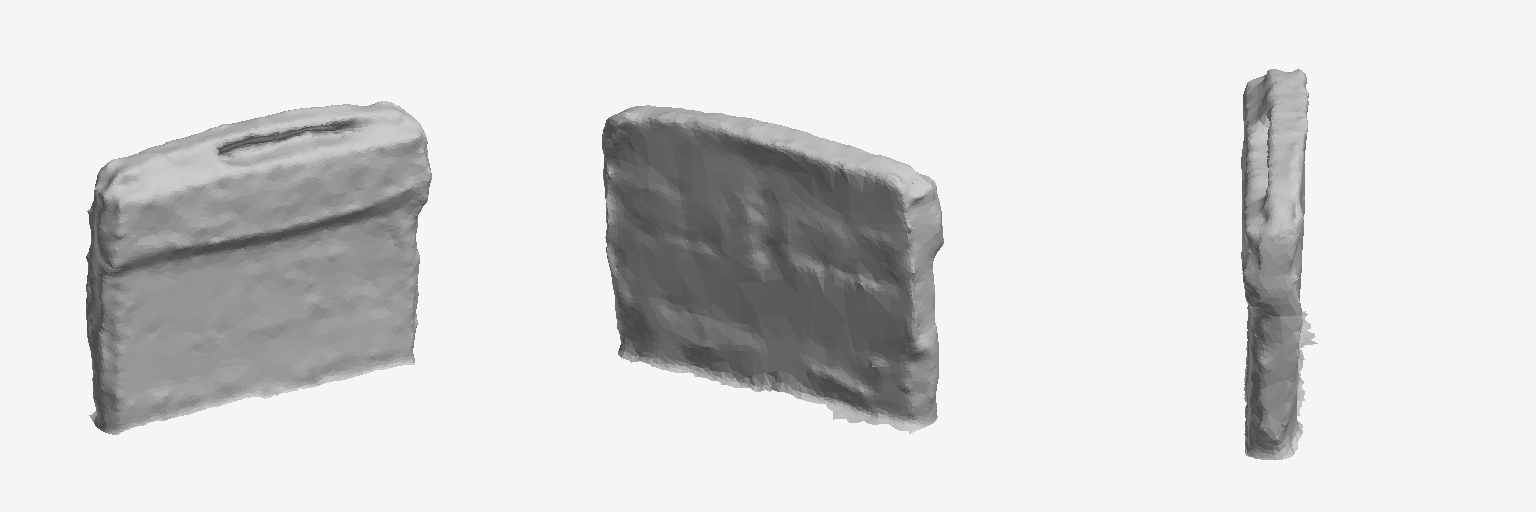
File: agb_dev_cut.obj
3 views of the same model, side by side, from view 1: azimuth 30°, elevation 25°; view 2: azimuth 150°, elevation 25°; view 3: azimuth 270°, elevation 25° (orthographic).
Parts seen in each view (by area): view 1: agb_dev; view 2: agb_dev; view 3: agb_dev.
Boxes of the visible parts, x1=… form: agb_dev: x1=86, y1=101, x2=431, y2=434; agb_dev: x1=602, y1=105, x2=943, y2=433; agb_dev: x1=1241, y1=69, x2=1317, y2=459.
Size of the model in its own units: 0.0629 by 0.0477 by 0.0128.